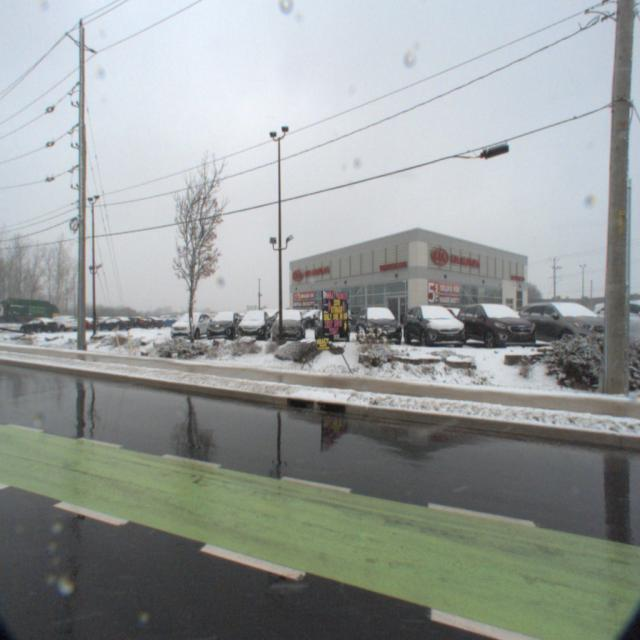Car: (508, 296, 626, 348), (450, 297, 542, 351), (398, 300, 470, 350), (351, 303, 405, 348), (163, 310, 213, 343), (311, 305, 351, 346), (267, 306, 307, 344), (232, 307, 272, 342), (201, 310, 243, 342), (289, 308, 335, 330), (34, 316, 78, 335), (88, 316, 132, 333), (157, 314, 186, 329)
